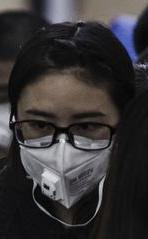OK: (18, 96, 120, 209)
